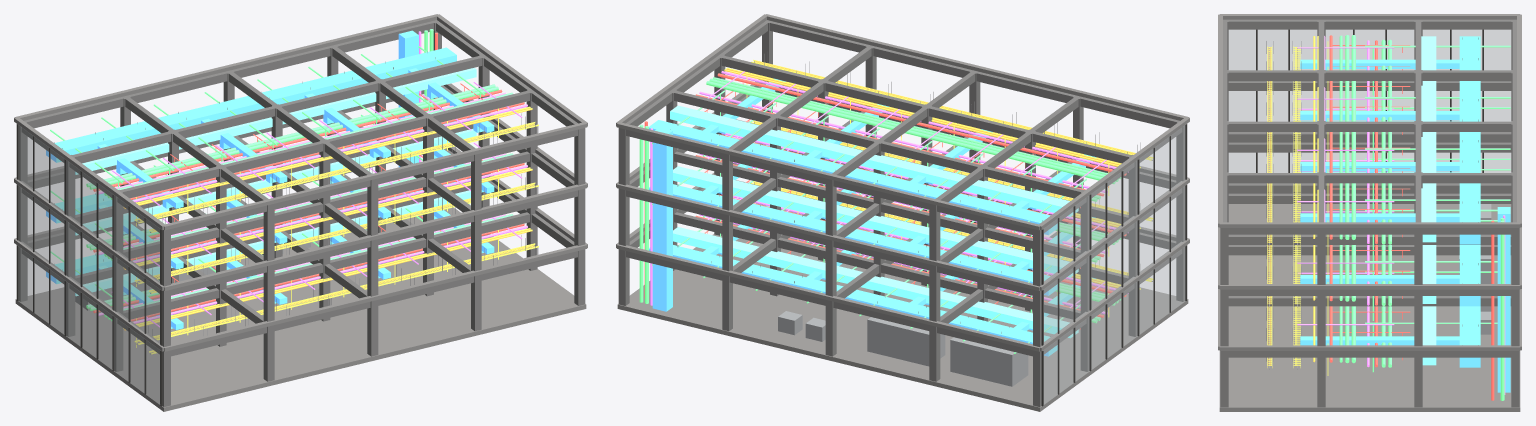
Rendered from coordinate.glb.
3 views of the same model, side by side, from view 1: azimuth 30°, elevation 25°; view 2: azimuth 150°, elevation 25°; view 3: azimuth 270°, elevation 25° (orthographic).
Visible parts, largest first — view 1: B_frame, B_slab, B_glass, B_duct, B_orange, B_ret, B_green, B_purple, B_mull, B_yellow, B_red, B_rod (+1 smaller); view 2: B_frame, B_slab, B_glass, B_duct, B_ret, B_green, B_plant, B_purple, B_mull, B_orange, B_red, B_yellow; view 3: B_frame, B_slab, B_duct, B_glass, B_green, B_ret, B_orange, B_red, B_purple, B_yellow, B_rod, B_plant (+1 smaller).
Boxes of the visible parts, x1=… form: B_frame: x1=16, y1=20, x2=585, y2=406; B_slab: x1=14, y1=14, x2=587, y2=411; B_glass: x1=18, y1=125, x2=160, y2=404; B_duct: x1=46, y1=30, x2=494, y2=329; B_orange: x1=123, y1=106, x2=534, y2=351; B_ret: x1=75, y1=67, x2=476, y2=296; B_green: x1=50, y1=29, x2=513, y2=320; B_purple: x1=98, y1=31, x2=527, y2=327; B_mull: x1=17, y1=124, x2=162, y2=406; B_yellow: x1=134, y1=108, x2=538, y2=354; B_red: x1=93, y1=32, x2=524, y2=321; B_rod: x1=54, y1=51, x2=538, y2=354; B_frame: x1=618, y1=20, x2=1187, y2=406; B_slab: x1=616, y1=14, x2=1189, y2=411; B_glass: x1=1043, y1=125, x2=1185, y2=404; B_duct: x1=649, y1=78, x2=1096, y2=356; B_ret: x1=670, y1=105, x2=1078, y2=338; B_green: x1=639, y1=77, x2=1121, y2=353; B_plant: x1=778, y1=311, x2=1028, y2=386; B_purple: x1=650, y1=71, x2=1128, y2=314; B_mull: x1=1041, y1=124, x2=1186, y2=406; B_orange: x1=724, y1=60, x2=1150, y2=287; B_red: x1=644, y1=73, x2=1126, y2=329; B_yellow: x1=740, y1=59, x2=1153, y2=317; B_frame: x1=1220, y1=19, x2=1519, y2=407; B_slab: x1=1218, y1=14, x2=1521, y2=411; B_duct: x1=1300, y1=36, x2=1510, y2=392; B_glass: x1=1229, y1=30, x2=1510, y2=172; B_green: x1=1339, y1=35, x2=1510, y2=400; B_ret: x1=1421, y1=36, x2=1436, y2=365; B_orange: x1=1267, y1=36, x2=1318, y2=365; B_red: x1=1329, y1=35, x2=1494, y2=400; B_purple: x1=1297, y1=36, x2=1505, y2=394; B_yellow: x1=1267, y1=41, x2=1328, y2=375; B_rod: x1=1266, y1=37, x2=1478, y2=369; B_plant: x1=1459, y1=204, x2=1491, y2=334.
Size of the model in its own units: 30.8 by 12.85 by 18.8.
